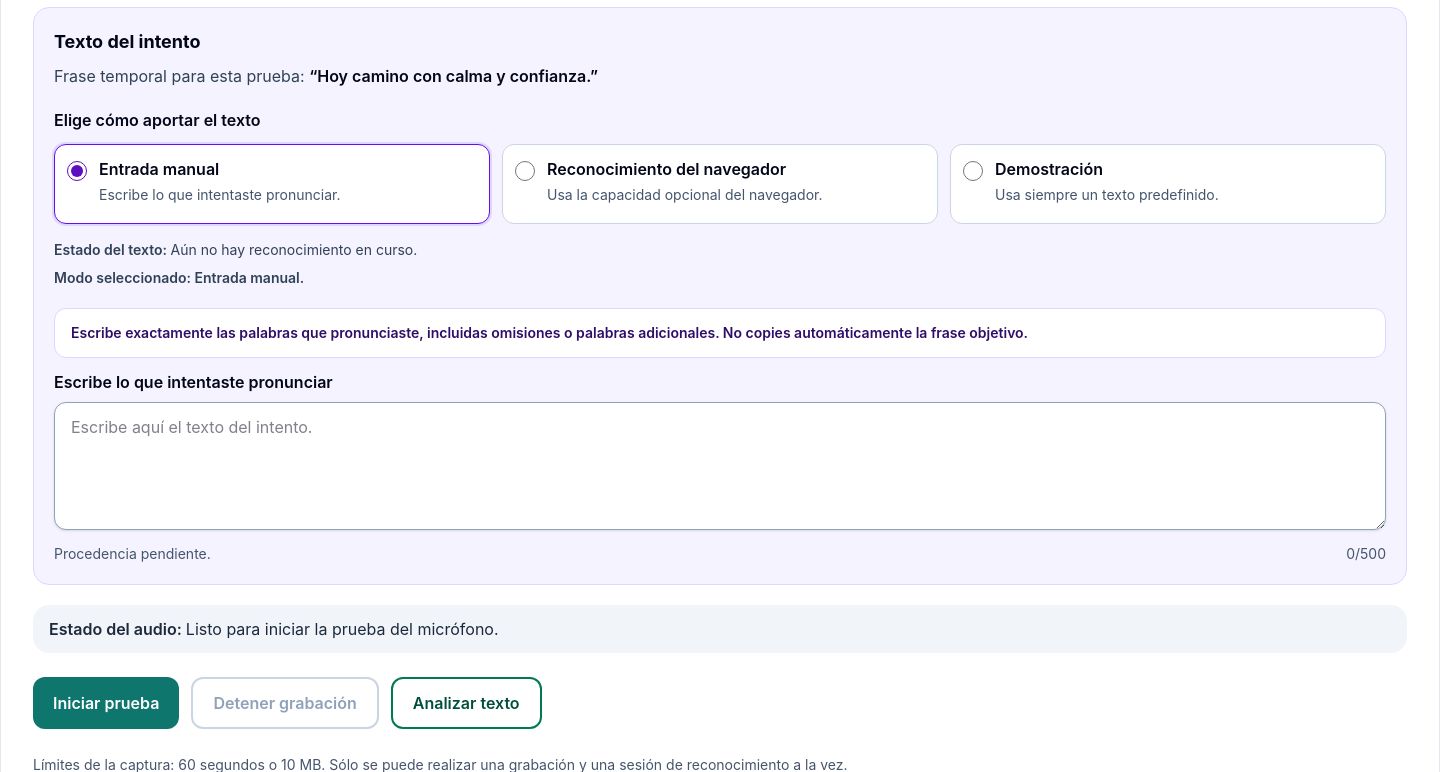
Test: AudioRecorderCard › explica cuando el navegador no soporta la captura
(page scrolled)
Click the button "Iniciar prueba" at {"x": 106, "y": 703}, box 33,677 -> 179,729
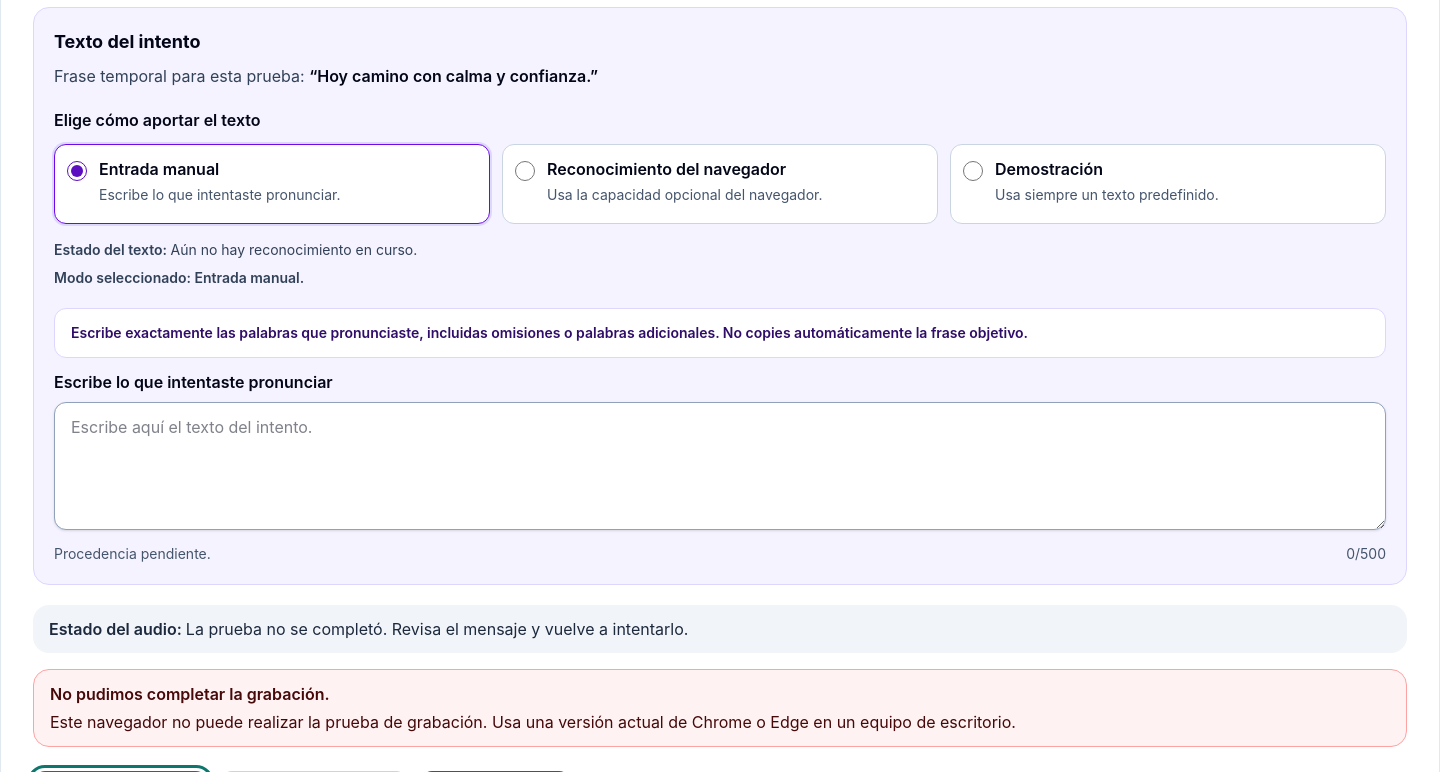
expect the message that starts with "No pudimos completar la grabación." shows "versión actual de Chrome o Edge": met, box 50,712 -> 1016,732
